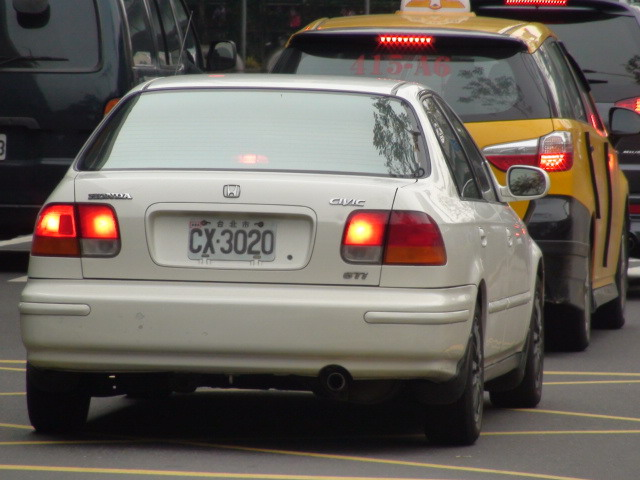plate: (186, 213, 283, 264)
